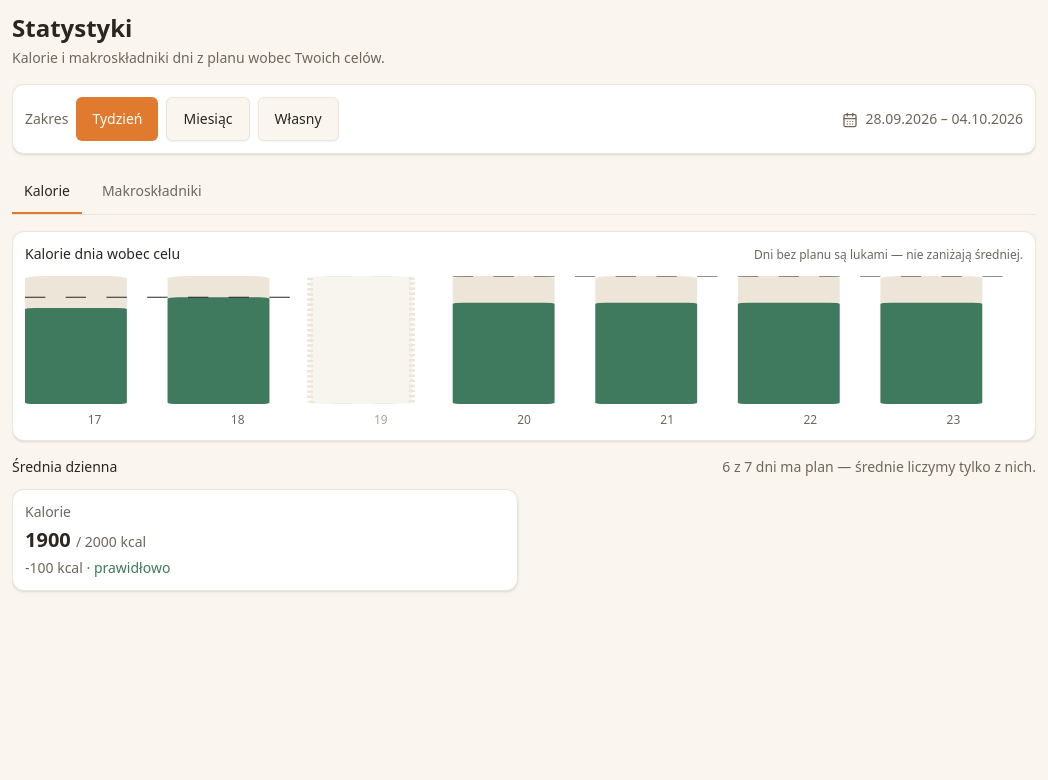
Test: StatystykiPage › zakres własny odsłania date-pickery i waliduje odwróconą kolejność
Click the button with test id "stats-preset-custom". click: point(298, 119)
box: [258,97,339,141]
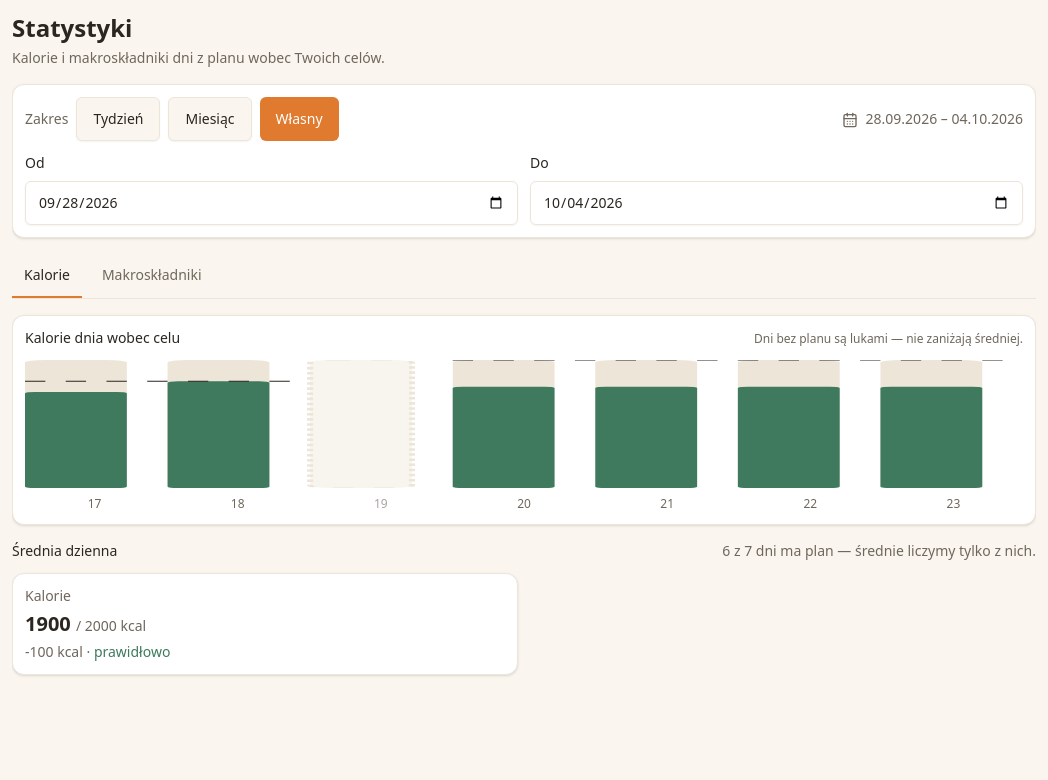
Type "2026-08-20" into the date field with test id "stats-from". click: point(272, 203)
box: [25,181,518,225]
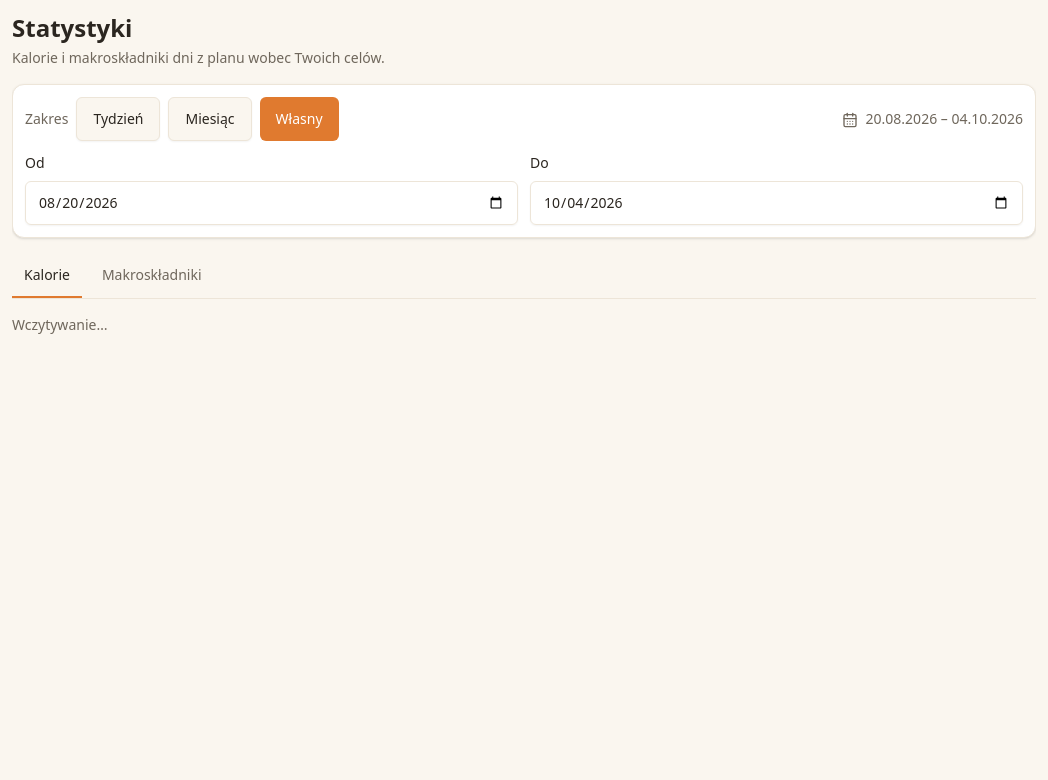
Type "2026-08-10" into the date field with test id "stats-to". click: point(776, 203)
box: [530,181,1023,225]
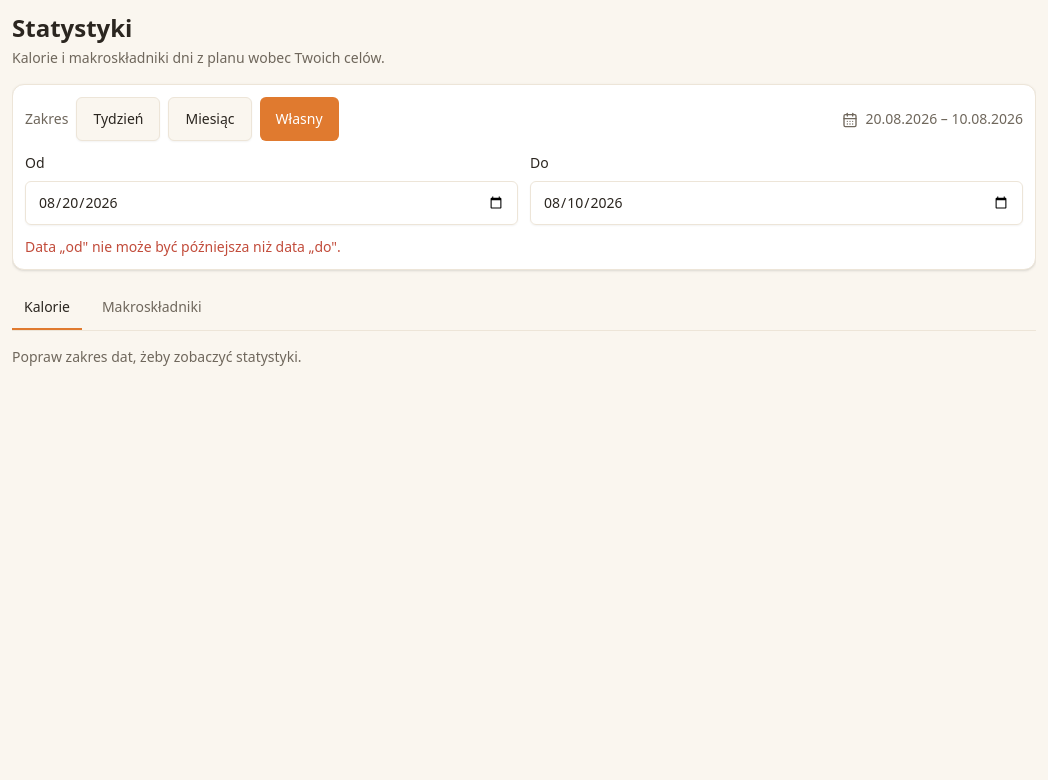
Check: the message with test id "stats-error" shows "nie może być późniejsza", box [25,237,341,256]
